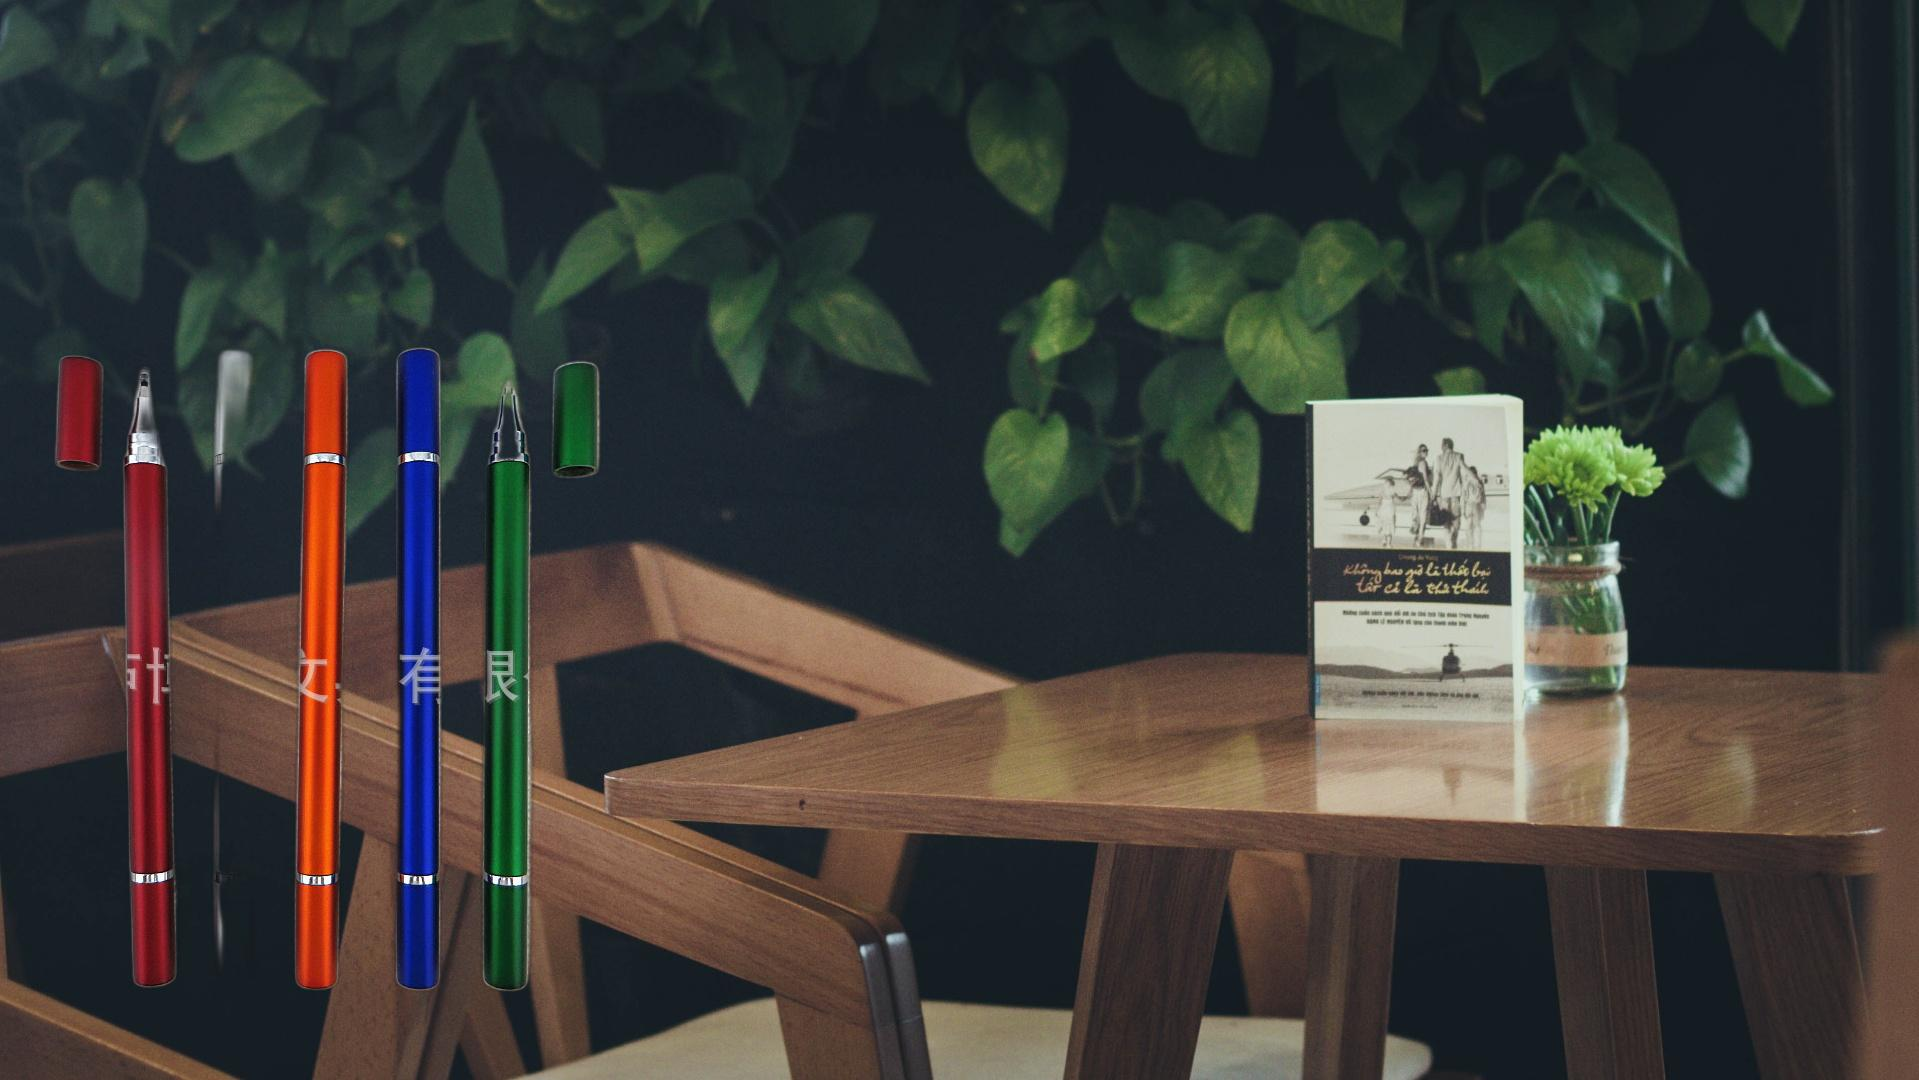penholder: (47, 342, 608, 998)
